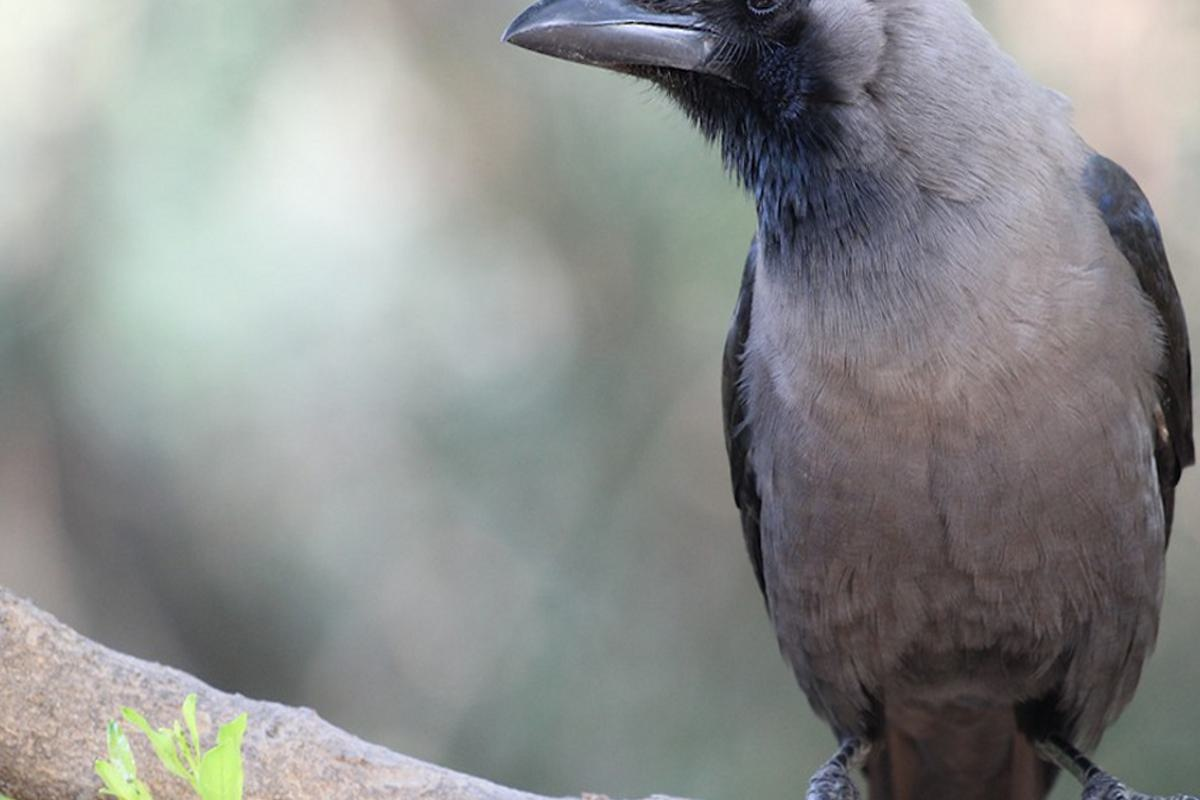crow: (503, 3, 1200, 796)
